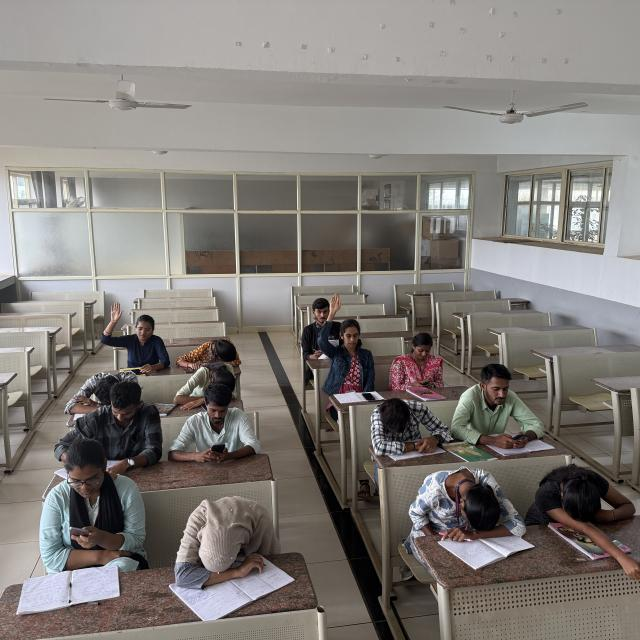Hand Rising: (100, 299, 174, 371), (316, 292, 372, 386)
Sleeping: (168, 484, 279, 580), (417, 463, 531, 536), (532, 462, 640, 534), (59, 365, 148, 422), (370, 397, 448, 452), (170, 358, 242, 409), (174, 332, 244, 371)
Using Phone: (40, 442, 146, 568), (453, 364, 545, 453), (168, 380, 256, 466), (391, 332, 448, 390)
Writing: (48, 386, 166, 462), (298, 294, 348, 356)
